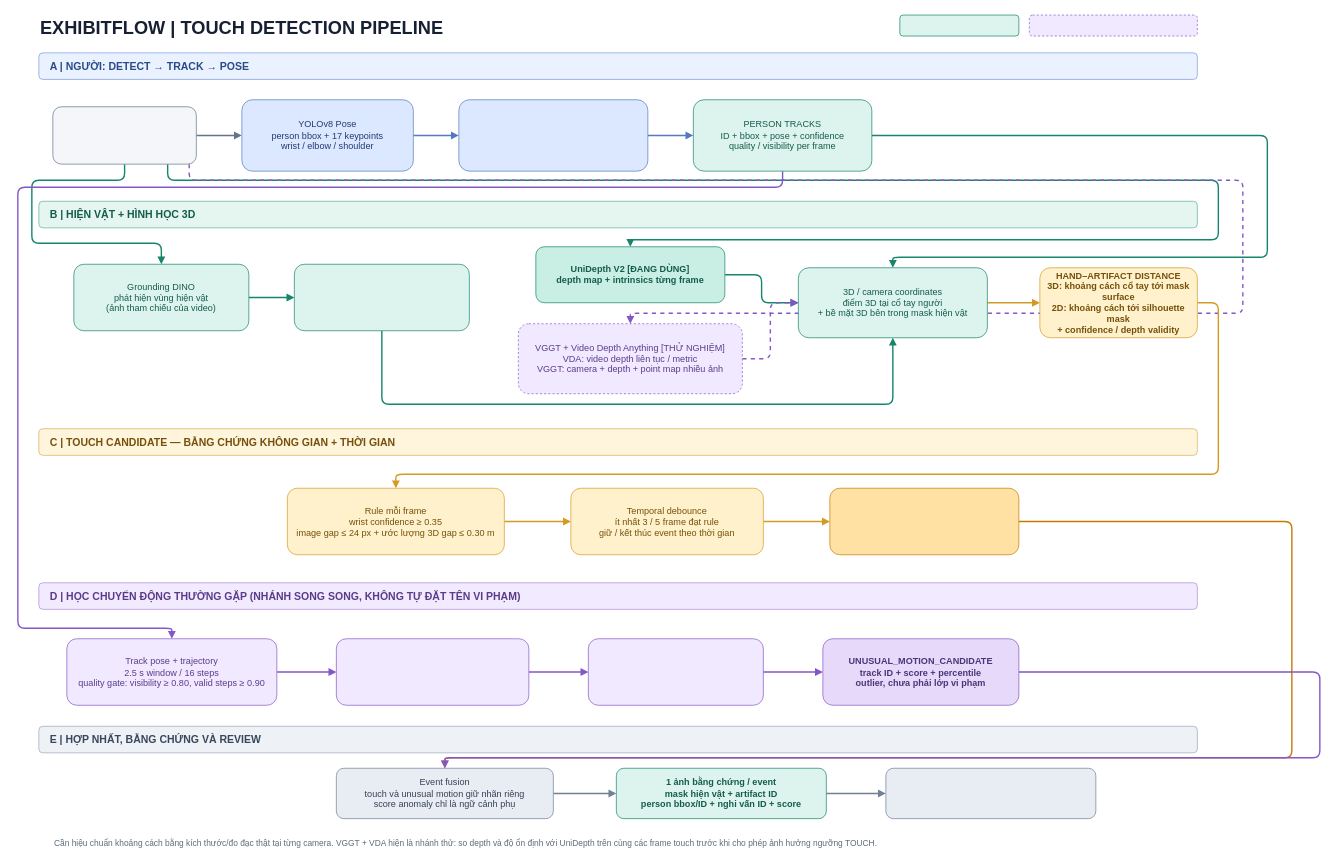
Some shapes in this 1338 by 867 pixel diagram are drawn without their labels. Here are the shapes that lost their labels. From the top down, the centre of each, then its label:
At (959,25): "CURRENT PIPELINE".
At (1113,25): "EXPERIMENTAL: VGGT + VDA".
At (124,135): "VIDEO 1 / 2 / 3 frame + camera_id".
At (553,135): "ByteTrack-DMA-LTC BYTE association + DMA + LTC motion model → person ID".
At (381,297): "SAM 2 segmentation mask hiện vật artifact_id + 2D mask".
At (924,521): "TOUCH_CANDIDATE person track ID + artifact ID thời điểm / khoảng cách nhỏ nhất".
At (432,671): "T06 Isolation Forest normal-only baseline score chuyển động khác thường".
At (675,671): "Percentile theo camera p99 = ngưỡng review hiện tại".
At (990,793): "Review người dùng video preview + CSV / event log candidate ≠ touch đã xác nhận".
